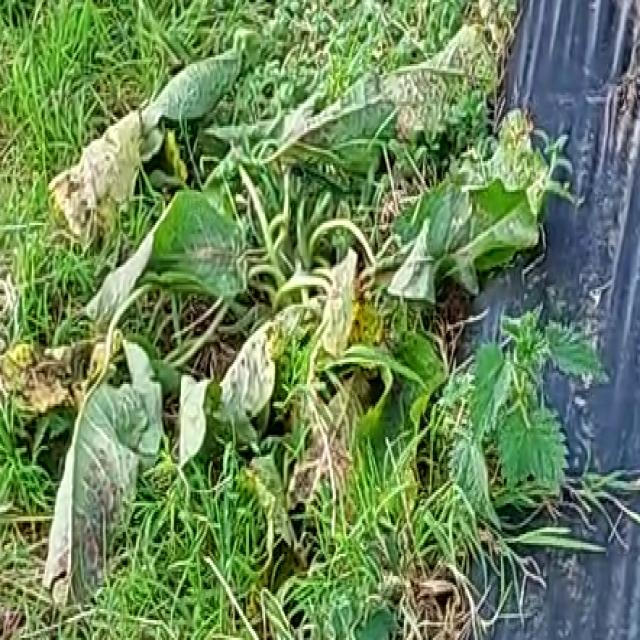organic waste: (44, 40, 538, 609)
